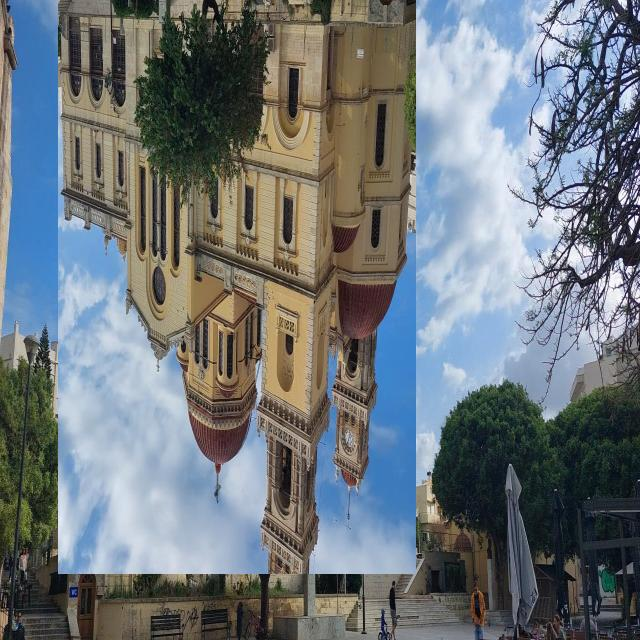Agios Minas: (59, 1, 417, 575)
